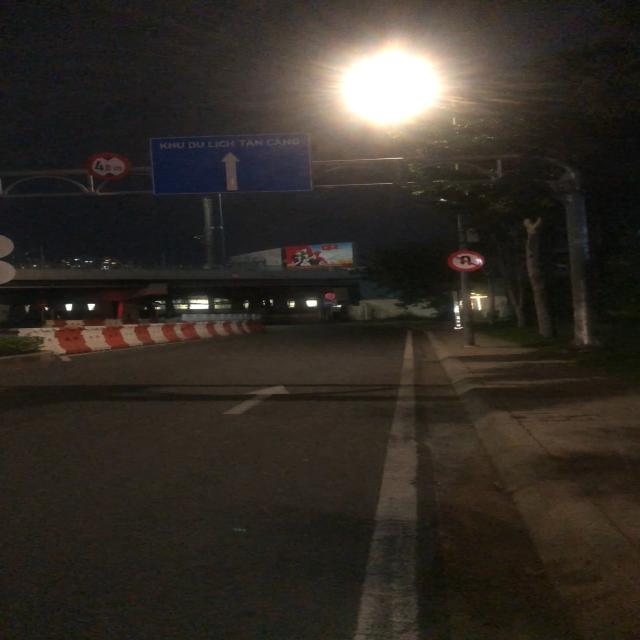Bien bao cam quay dau xe: (446, 248, 489, 273)
Bien bao han che chieu cao: (84, 151, 138, 182)
